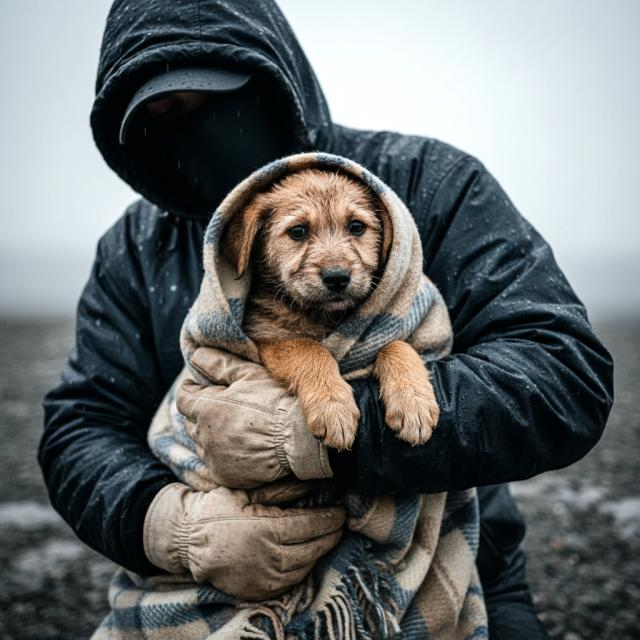civilian: (26, 0, 620, 640)
dog: (195, 172, 454, 490)
